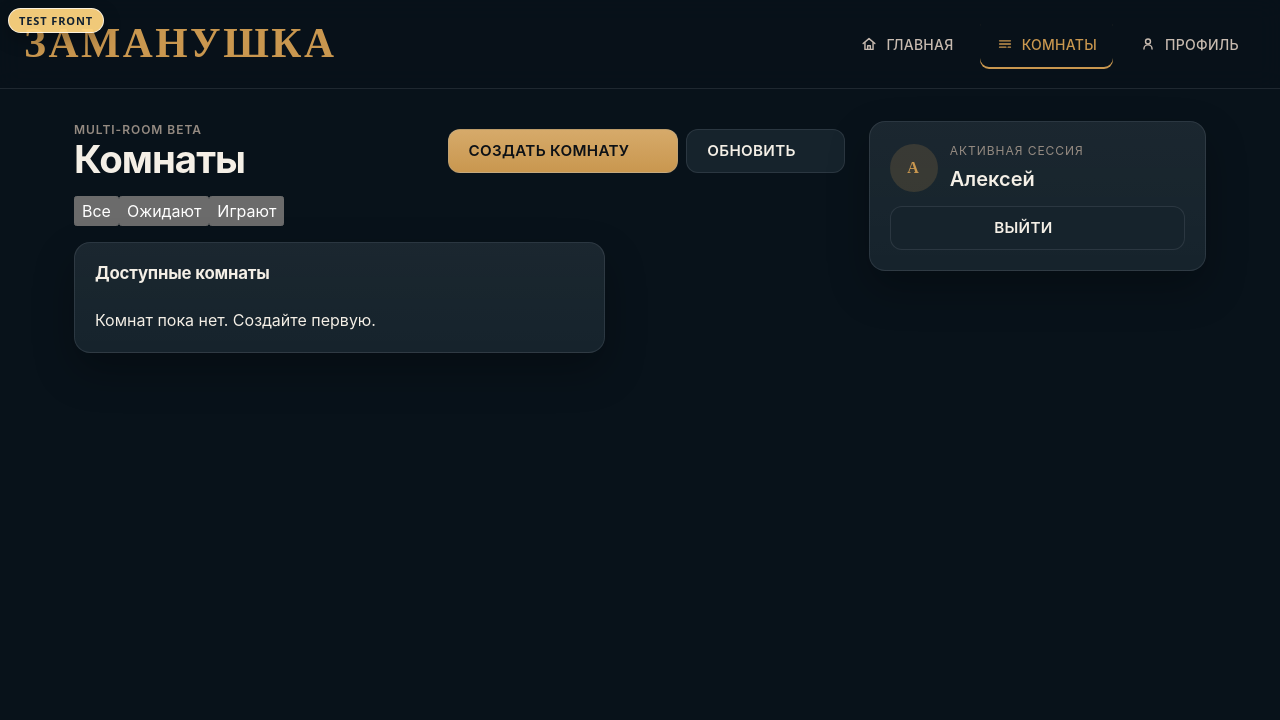
it: playable beta room flow › creates a room, joins it, and shows room-scoped seat controls
The width and height of the screenshot is (1280, 720).
What coordinates should you click on to do the following:
click the button "Создать комнату"
I would click on:
 (563, 151)
Its box is [448, 129, 678, 173].
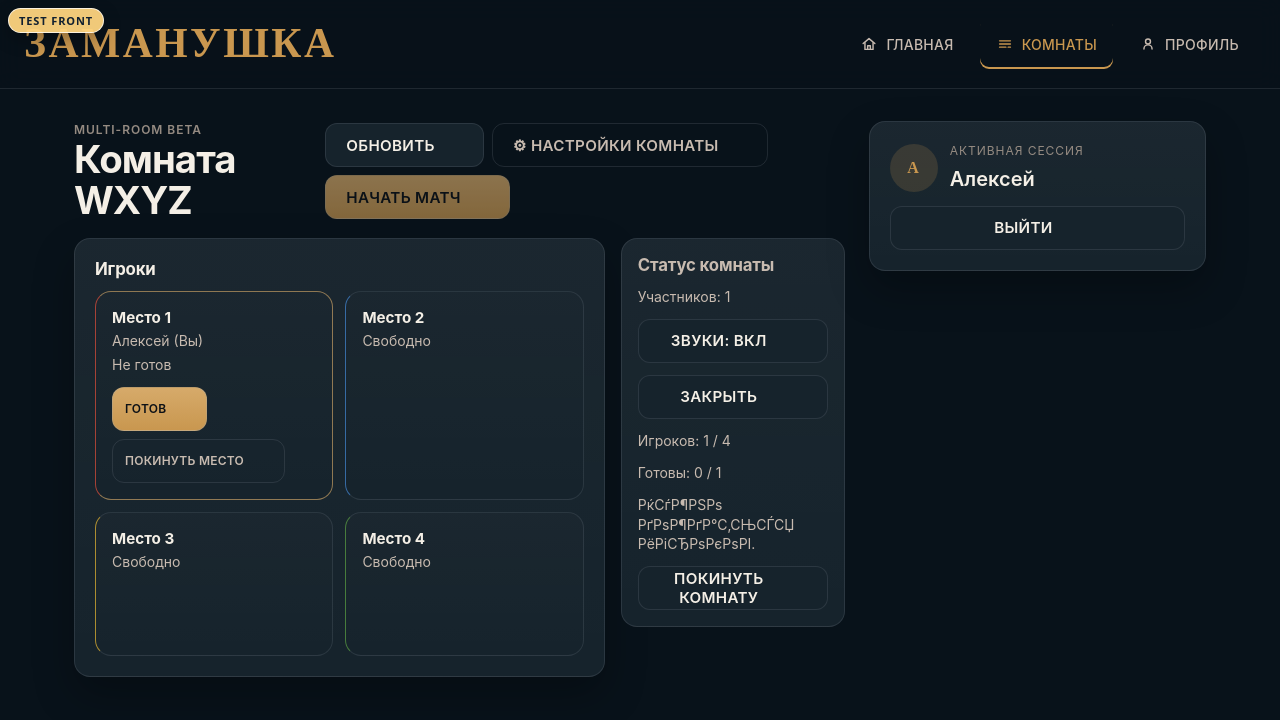
Result: the heading "Комната WXYZ" is shown at [74, 136, 236, 224]
Result: the button "Покинуть место" is shown at [112, 439, 285, 483]
